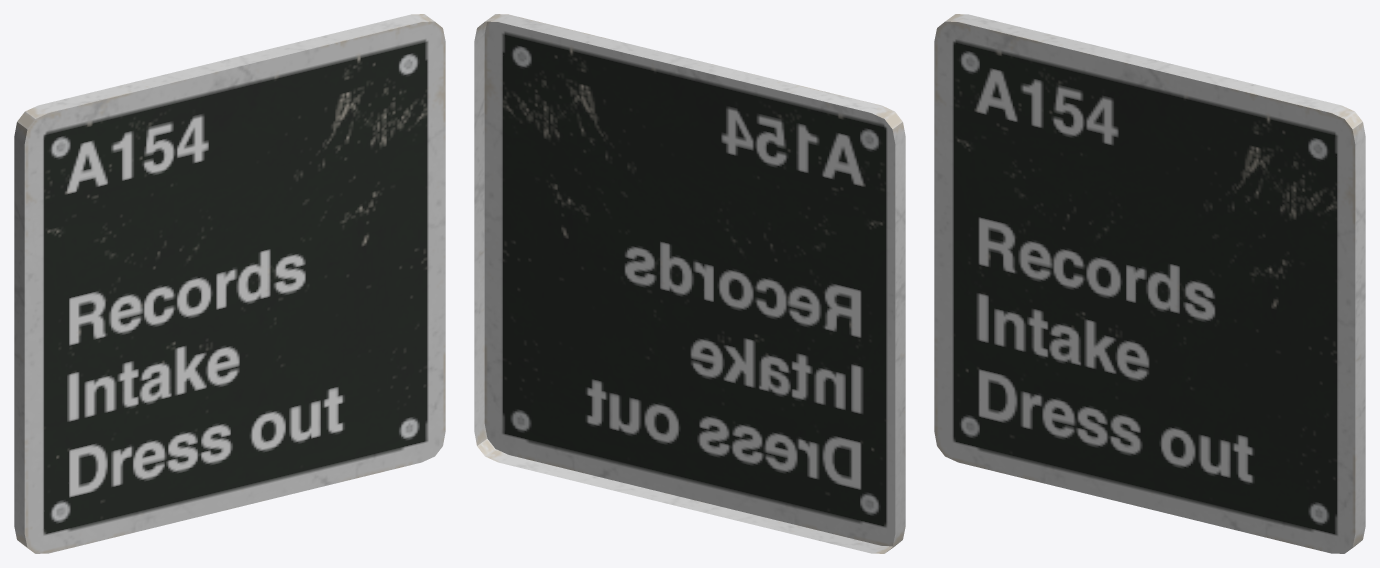
Rendered from SM_Sign_02.fbx.
3 views of the same model, side by side, from view 1: azimuth 30°, elevation 25°; view 2: azimuth 150°, elevation 25°; view 3: azimuth 330°, elevation 25° (orthographic).
Visible parts, largest first — view 1: SM_Sign_02; view 2: SM_Sign_02; view 3: SM_Sign_02.
Part boxes in pixels (bbox=[...]): SM_Sign_02: bbox=[14, 14, 445, 553]; SM_Sign_02: bbox=[474, 14, 905, 553]; SM_Sign_02: bbox=[934, 14, 1365, 553].
Bounding box in the file's own units: 35 × 1.5 × 35.
1 material, 1 textured.
